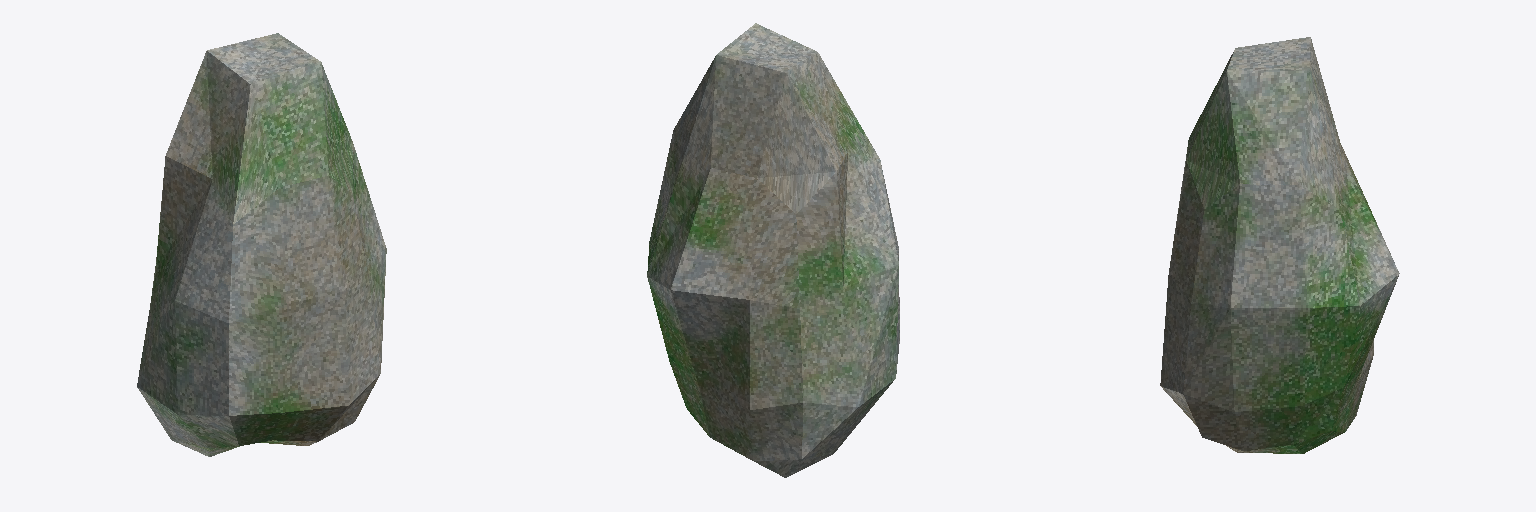
The picture shows the model from 3 angles: view 1: azimuth 30°, elevation 25°; view 2: azimuth 150°, elevation 25°; view 3: azimuth 270°, elevation 25°; orthographic projection.
Visible parts, largest first — view 1: Stone_F_3_LOD2; view 2: Stone_F_3_LOD2; view 3: Stone_F_3_LOD2.
Boxes of the visible parts, <box> form: Stone_F_3_LOD2: <box>137,33,386,456</box>; Stone_F_3_LOD2: <box>647,23,899,477</box>; Stone_F_3_LOD2: <box>1160,37,1399,453</box>.
Bounding box in the file's own units: 68.02 × 125 × 66.55.
Materials: 1 (1 with a texture image).